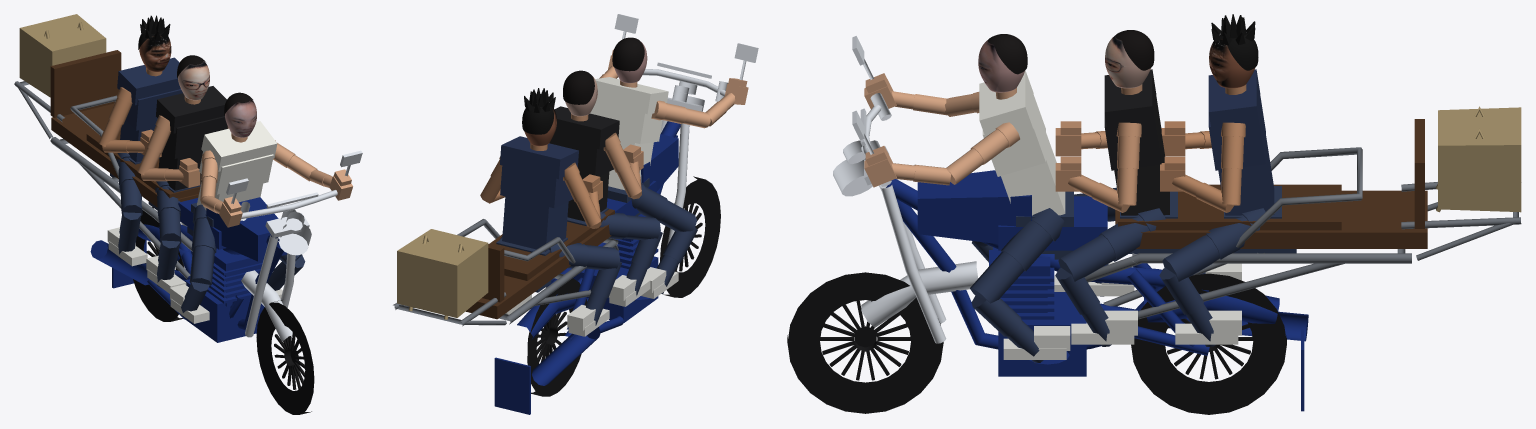
File: habalhabal-threeup.glb
3 views of the same model, side by side, from view 1: azimuth 30°, elevation 25°; view 2: azimuth 150°, elevation 25°; view 3: azimuth 270°, elevation 25° (orthographic). The views are drawn at different scales.
Parts seen in each view (by area): view 1: Torso (×3), Body, Plank, Spin (×2), Fork, Cargo, Leg_R (×3), PlankFrame, Photo (×3), Arm_R (×3), Leg_R_Lower (×3), Shoe_R (×3) (+6 smaller); view 2: Torso (×3), Body, Cargo, Spin (×2), Plank, Leg_R (×3), Arm_R (×3), PlankFrame, Leg_R_Lower (×3), Hair (×3), Fork, Shoe_R (×3) (+7 smaller); view 3: Spin (×2), Body, Torso (×3), Plank, Leg_L (×3), PlankFrame, Cargo, Fork, Arm_L (×3), Leg_L_Lower (×3), Shoe_L (×3), Photo (×3) (+8 smaller).
Part boxes in pixels (left/top/right/bottom): Torso (×3): left=117, top=57, right=277, bottom=210; Body: left=90, top=197, right=286, bottom=342; Plank: left=50, top=50, right=200, bottom=207; Spin (×2): left=133, top=207, right=314, bottom=414; Fork: left=240, top=190, right=337, bottom=341; Cargo: left=19, top=14, right=106, bottom=97; Leg_R (×3): left=116, top=153, right=216, bottom=286; PlankFrame: left=14, top=81, right=192, bottom=279; Photo (×3): left=139, top=36, right=256, bottom=137; Arm_R (×3): left=99, top=87, right=218, bottom=203; Leg_R_Lower (×3): left=118, top=212, right=209, bottom=318; Shoe_R (×3): left=107, top=227, right=209, bottom=323; Torso (×3): left=500, top=77, right=668, bottom=251; Body: left=494, top=121, right=680, bottom=414; Cargo: left=397, top=229, right=488, bottom=319; Spin (×2): left=527, top=176, right=720, bottom=396; Plank: left=465, top=209, right=614, bottom=319; Leg_R (×3): left=549, top=182, right=696, bottom=270; Arm_R (×3): left=563, top=100, right=710, bottom=226; PlankFrame: left=393, top=219, right=618, bottom=326; Leg_R_Lower (×3): left=586, top=227, right=697, bottom=330; Hair (×3): left=522, top=37, right=644, bottom=134; Fork: left=642, top=62, right=728, bottom=244; Shoe_R (×3): left=567, top=267, right=678, bottom=336; Spin (×2): left=787, top=272, right=1286, bottom=414; Body: left=886, top=170, right=1308, bottom=411; Torso (×3): left=979, top=69, right=1274, bottom=215; Plank: left=1115, top=119, right=1427, bottom=248; Leg_L (×3): left=970, top=208, right=1269, bottom=303; PlankFrame: left=1084, top=147, right=1521, bottom=319; Cargo: left=1436, top=106, right=1521, bottom=212; Fork: left=833, top=93, right=978, bottom=343; Arm_L (×3): left=946, top=122, right=1245, bottom=205; Leg_L_Lower (×3): left=971, top=267, right=1215, bottom=363; Shoe_L (×3): left=1003, top=310, right=1241, bottom=359; Photo (×3): left=978, top=35, right=1255, bottom=92.
Size of the model in its own units: 0.79 by 1.66 by 2.82.
20 materials, 3 textured.
